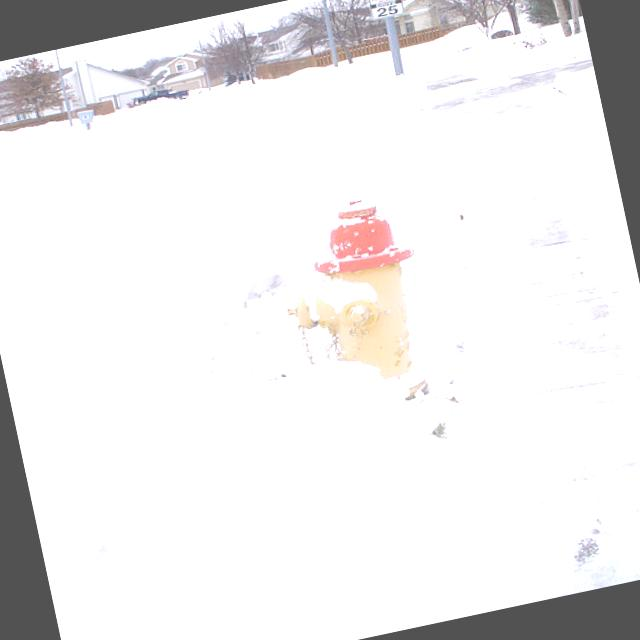Vehicle: (126, 82, 192, 110)
